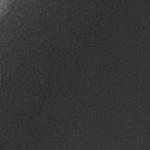colony: (0, 0, 18, 31), (0, 40, 3, 100)
